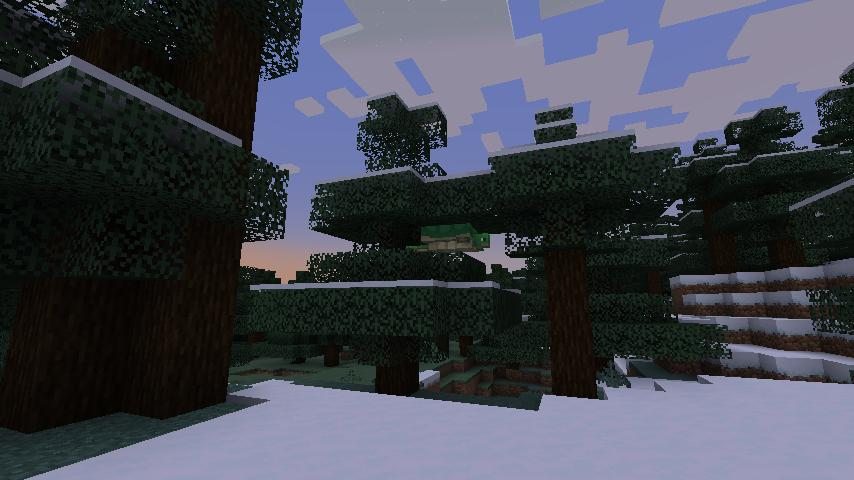turtle: (408, 219, 494, 261)
